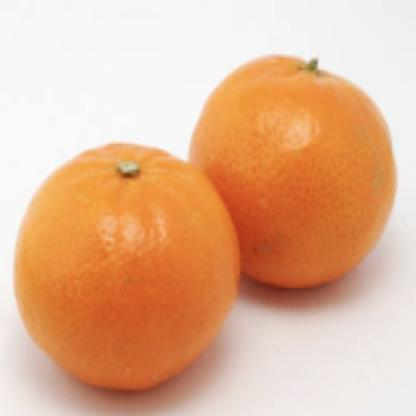fresh: (15, 53, 395, 394)
